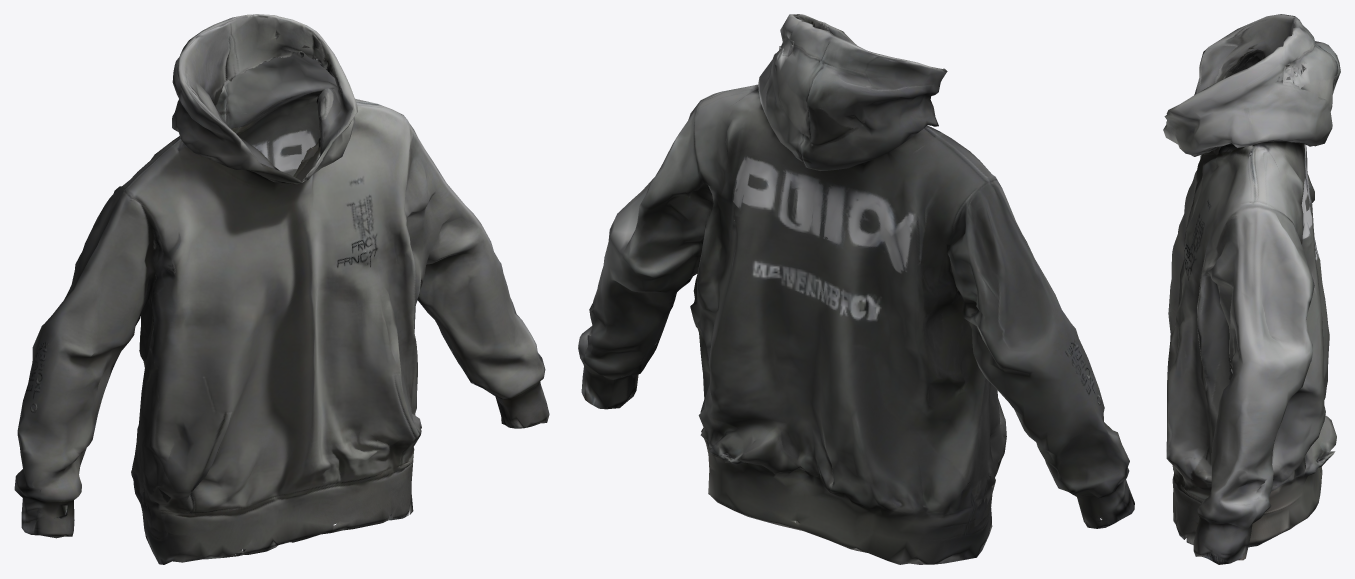
File: A_high_fashion_techwe_0602191349_texture.glb
The picture shows the model from 3 angles, left to right: view 1: azimuth 30°, elevation 25°; view 2: azimuth 150°, elevation 25°; view 3: azimuth 270°, elevation 25°; orthographic projection. The views are drawn at different scales.
Size of the model in its own units: 2 by 1.82 by 0.6205.
Materials: 1 (1 with a texture image).
